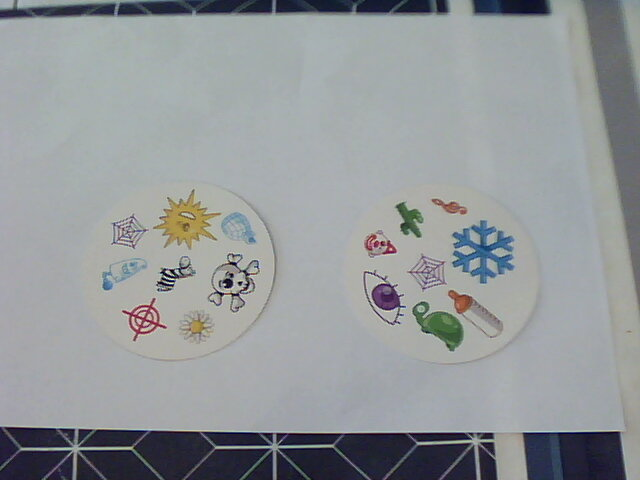biberon: (446, 285, 507, 343)
cactus: (392, 199, 426, 240)
cible: (119, 297, 168, 344)
clown: (360, 228, 402, 260)
fantome: (98, 253, 149, 293)
fleur: (175, 307, 216, 343)
flocon: (446, 218, 518, 284)
igloo: (217, 209, 261, 251)
note: (428, 193, 471, 218)
oeuil: (359, 266, 410, 330)
soleil: (151, 188, 222, 253)
tete_mort: (205, 253, 264, 315)
toile: (109, 211, 151, 252), (407, 253, 449, 293)
tortue: (410, 299, 466, 354)
zebre: (153, 252, 200, 294)
